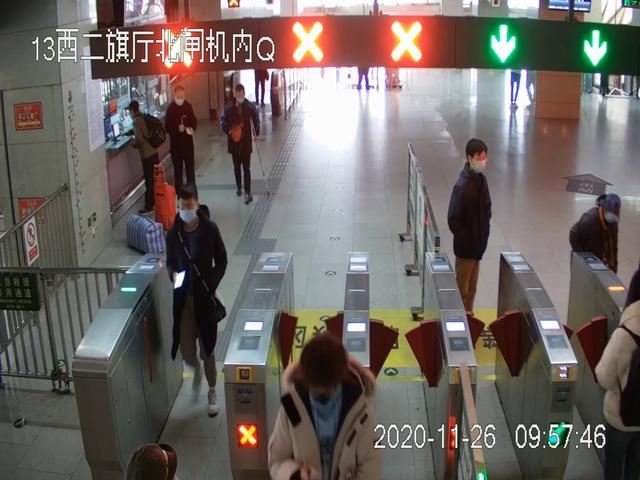person: (268, 335, 380, 480), (167, 185, 227, 417), (447, 139, 491, 319), (569, 192, 622, 310), (221, 85, 265, 204), (124, 100, 167, 216), (166, 85, 197, 202)
